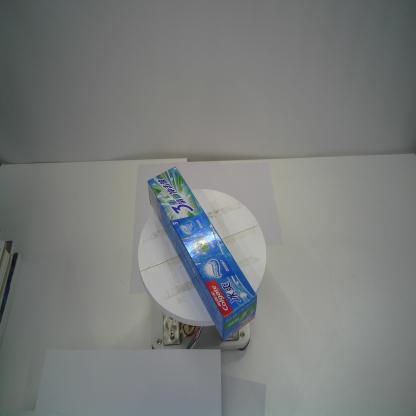Personal Hygiene: (147, 166, 257, 341)
